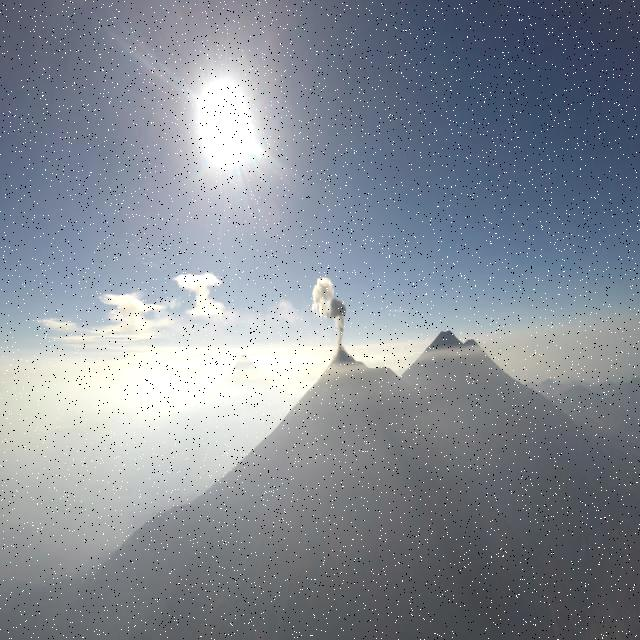Plume: (311, 274, 336, 322), (325, 298, 351, 332)
Summit: (312, 347, 414, 396)
